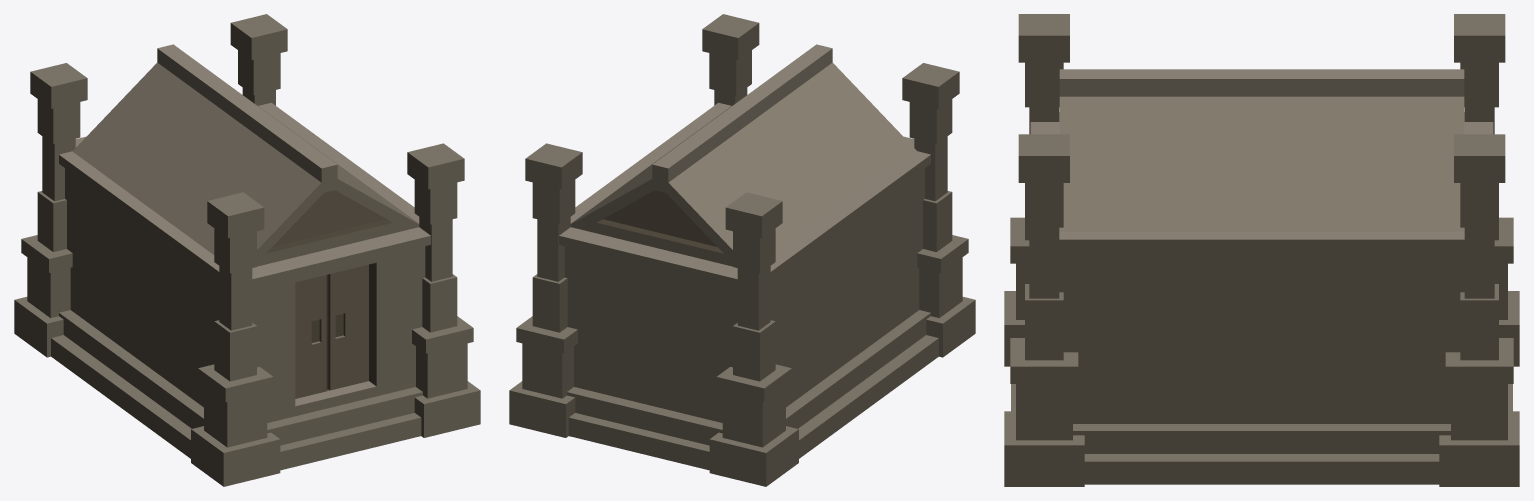
Rendered from MediumLess_SF_Bld_Undead_Crypt_01.fbx.
The picture shows the model from 3 angles, left to right: view 1: azimuth 30°, elevation 25°; view 2: azimuth 150°, elevation 25°; view 3: azimuth 270°, elevation 25°; orthographic projection. The views are drawn at different scales.
Visible parts, largest first — view 1: SF_Bld_Undead_Crypt_01; view 2: SF_Bld_Undead_Crypt_01; view 3: SF_Bld_Undead_Crypt_01.
Boxes of the visible parts, <box> form: SF_Bld_Undead_Crypt_01: <box>14,14,480,486</box>; SF_Bld_Undead_Crypt_01: <box>509,14,975,486</box>; SF_Bld_Undead_Crypt_01: <box>1004,14,1519,486</box>.
Size of the model in its own units: 493 by 500 by 696.
